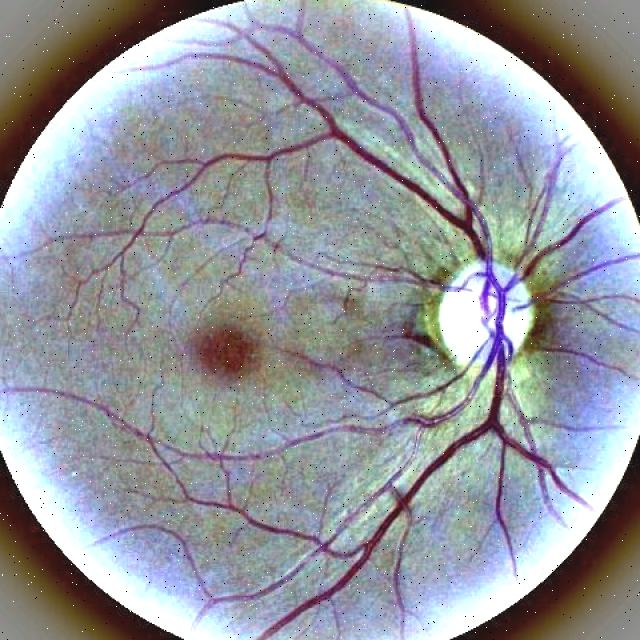Macula: (201, 328, 255, 373)
Nerves: (85, 9, 619, 640)
Optic Disk: (439, 259, 533, 373)
